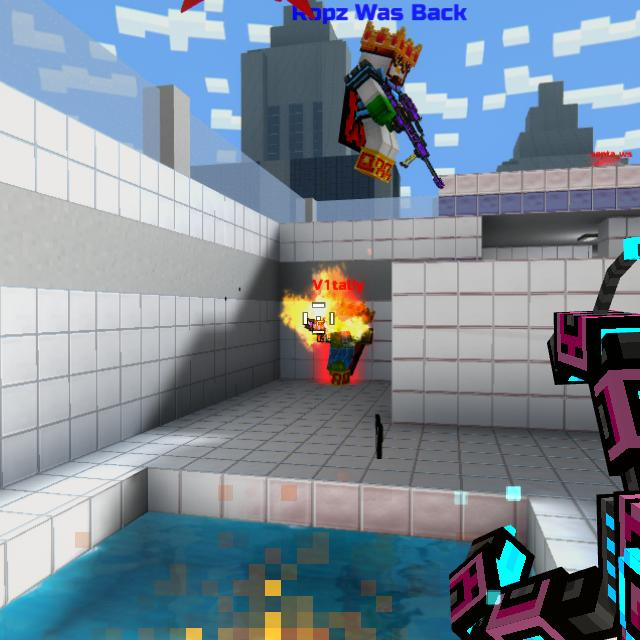Enemy: (315, 302, 375, 385)
